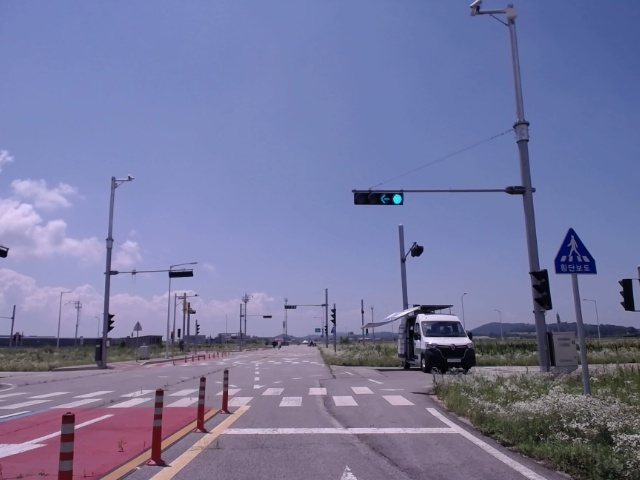all_green_4: (349, 186, 408, 206)
